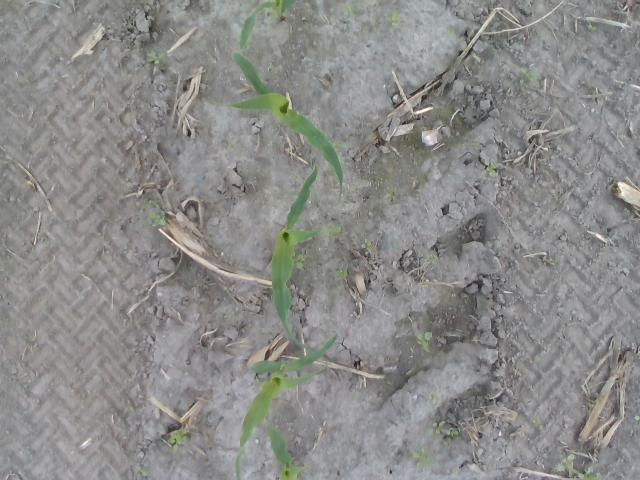Maize: (209, 51, 344, 203), (234, 334, 341, 480), (268, 166, 336, 354), (239, 1, 299, 50)
Weeds: (558, 454, 602, 480), (141, 198, 167, 228), (413, 446, 434, 472), (428, 422, 460, 439), (168, 432, 192, 454), (480, 154, 500, 178), (416, 332, 432, 354), (520, 68, 536, 84), (290, 253, 307, 268), (344, 3, 359, 18), (225, 138, 239, 154), (334, 267, 350, 281), (148, 50, 162, 66), (388, 12, 404, 26), (361, 239, 373, 254), (388, 188, 398, 203), (544, 258, 560, 267), (427, 254, 441, 264), (136, 466, 148, 476), (430, 393, 440, 403)
